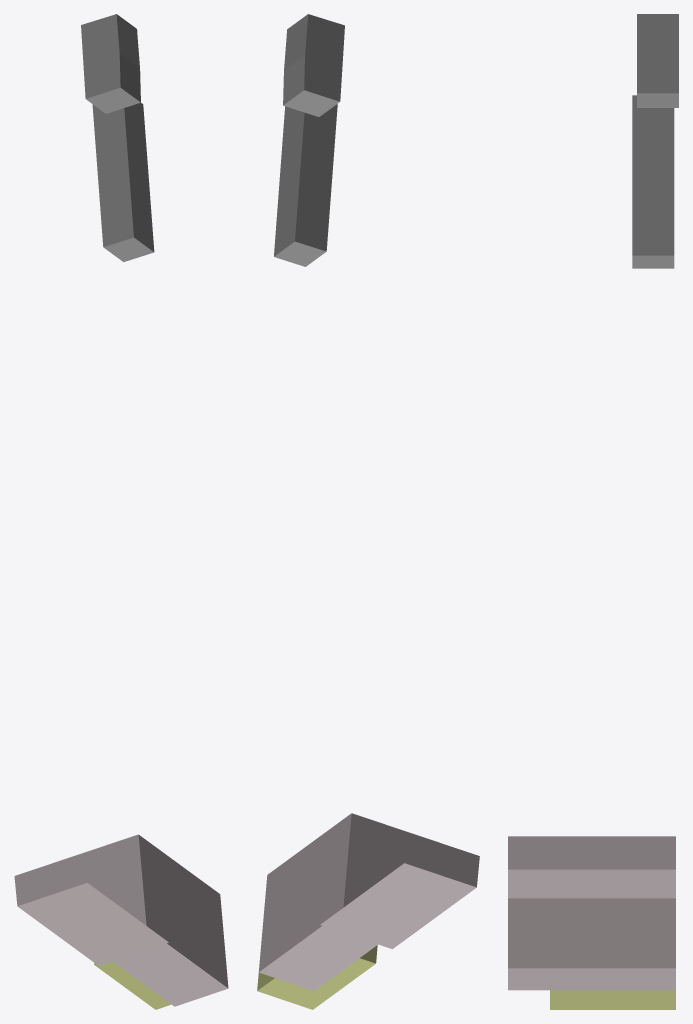
The picture shows the model from 3 angles, left to right: view 1: azimuth 30°, elevation 25°; view 2: azimuth 150°, elevation 25°; view 3: azimuth 270°, elevation 25°; orthographic projection. The views are drawn at different scales.
Visible parts, largest first — view 1: 0_2_3_3_3_1_0_0; view 2: 0_2_3_3_3_1_0_0; view 3: 0_2_3_3_3_1_0_0.
Part boxes in pixels (x1,y1,x2,y2): 0_2_3_3_3_1_0_0: [14, 14, 228, 1009]; 0_2_3_3_3_1_0_0: [257, 14, 479, 1009]; 0_2_3_3_3_1_0_0: [508, 14, 678, 1009].
Size of the model in its own units: 11.36 by 76.53 by 12.2.
